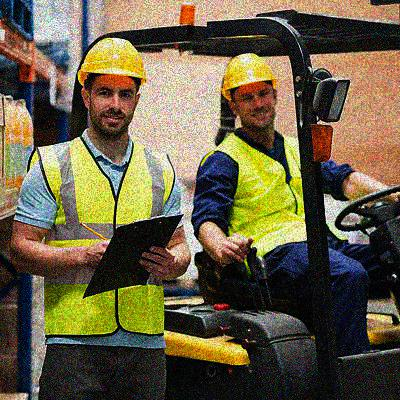helmet: (80, 35, 147, 133), (220, 51, 283, 128)
